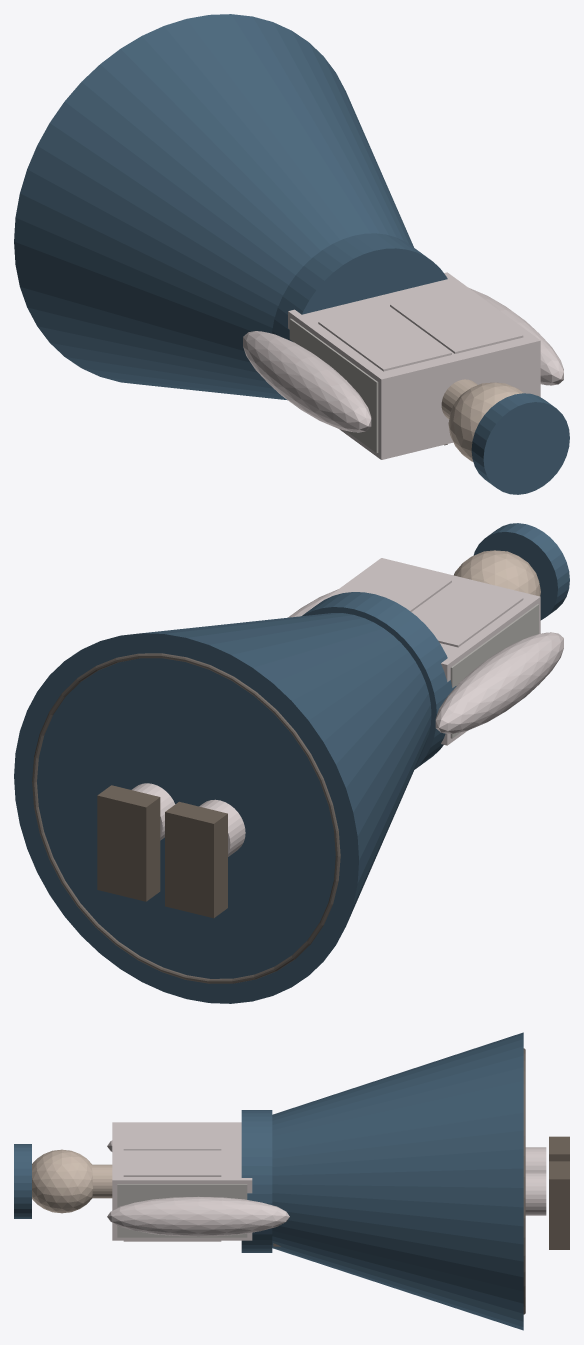
File: MASTER_090_STAGE3_DETAIL.glb
The picture shows the model from 3 angles, top to bottom: view 1: azimuth 30°, elevation 25°; view 2: azimuth 150°, elevation 25°; view 3: azimuth 270°, elevation 25°; orthographic projection. The views are drawn at different scales.
Visible parts, largest first — view 1: slot_lower_main__fund_i_gjatë, slot_upper_inner__këmishë, slot_waist__brez, slot_headwear__mbulesë_koke, slot_upper_inner_sleeve_L, slot_upper_outer__jelek_L, slot_upper_outer__jelek_R, mannequin_torso, mannequin_head, slot_upper_inner_sleeve_R, mannequin_neck; view 2: slot_lower_main__fund_i_gjatë, slot_footwear__opinga_R, slot_footwear__opinga_L, slot_upper_inner_sleeve_L, slot_waist__brez, detail_skirt_hem, slot_upper_outer__jelek_L, slot_headwear__mbulesë_koke, slot_upper_inner__këmishë, slot_upper_outer__jelek_R, mannequin_head, mannequin_torso (+2 smaller); view 3: slot_lower_main__fund_i_gjatë, slot_upper_inner_sleeve_R, slot_upper_inner__këmishë, slot_waist__brez, mannequin_head, slot_upper_outer__jelek_R, slot_upper_outer__jelek_L, mannequin_torso, slot_footwear__opinga_R, slot_headwear__mbulesë_koke, slot_legwear__çorape_R, detail_skirt_hem (+3 smaller).
Boxes of the visible parts, box(x1,y1,x2,y2) form: slot_lower_main__fund_i_gjatë: box(14, 14, 413, 400); slot_upper_inner__këmishë: box(288, 272, 540, 459); slot_waist__brez: box(272, 233, 447, 341); slot_headwear__mbulesë_koke: box(471, 393, 569, 494); slot_upper_inner_sleeve_L: box(243, 331, 371, 432); slot_upper_outer__jelek_L: box(318, 305, 451, 371); slot_upper_outer__jelek_R: box(390, 288, 523, 353); mannequin_torso: box(289, 318, 378, 453); mannequin_head: box(448, 382, 523, 461); slot_upper_inner_sleeve_R: box(469, 288, 563, 385); mannequin_neck: box(441, 379, 477, 419); slot_lower_main__fund_i_gjatë: box(14, 613, 431, 1003); slot_footwear__opinga_R: box(97, 785, 160, 901); slot_footwear__opinga_L: box(165, 801, 227, 918); slot_upper_inner_sleeve_L: box(435, 632, 563, 733); slot_waist__brez: box(301, 592, 456, 769); detail_skirt_hem: box(32, 653, 340, 983); slot_upper_outer__jelek_L: box(412, 581, 523, 647); slot_headwear__mbulesë_koke: box(473, 523, 569, 620); slot_upper_inner__këmishë: box(323, 558, 540, 745); slot_upper_outer__jelek_R: box(344, 564, 451, 611); mannequin_head: box(454, 550, 540, 596); mannequin_torso: box(450, 604, 538, 738); slot_lower_main__fund_i_gjatë: box(272, 1032, 523, 1330); slot_upper_inner_sleeve_R: box(107, 1196, 289, 1236); slot_upper_inner__këmishë: box(112, 1122, 252, 1240); slot_waist__brez: box(241, 1110, 272, 1252); mannequin_head: box(32, 1149, 93, 1213); slot_upper_outer__jelek_R: box(123, 1150, 221, 1241); slot_upper_outer__jelek_L: box(123, 1124, 221, 1150); mannequin_torso: box(117, 1184, 247, 1237); slot_footwear__opinga_R: box(549, 1161, 569, 1249); slot_headwear__mbulesë_koke: box(14, 1144, 31, 1218); slot_legwear__çorape_R: box(525, 1172, 546, 1215); detail_skirt_hem: box(523, 1048, 525, 1314).
Size of the model in its own units: 0.9181 by 0.9181 by 1.71.
